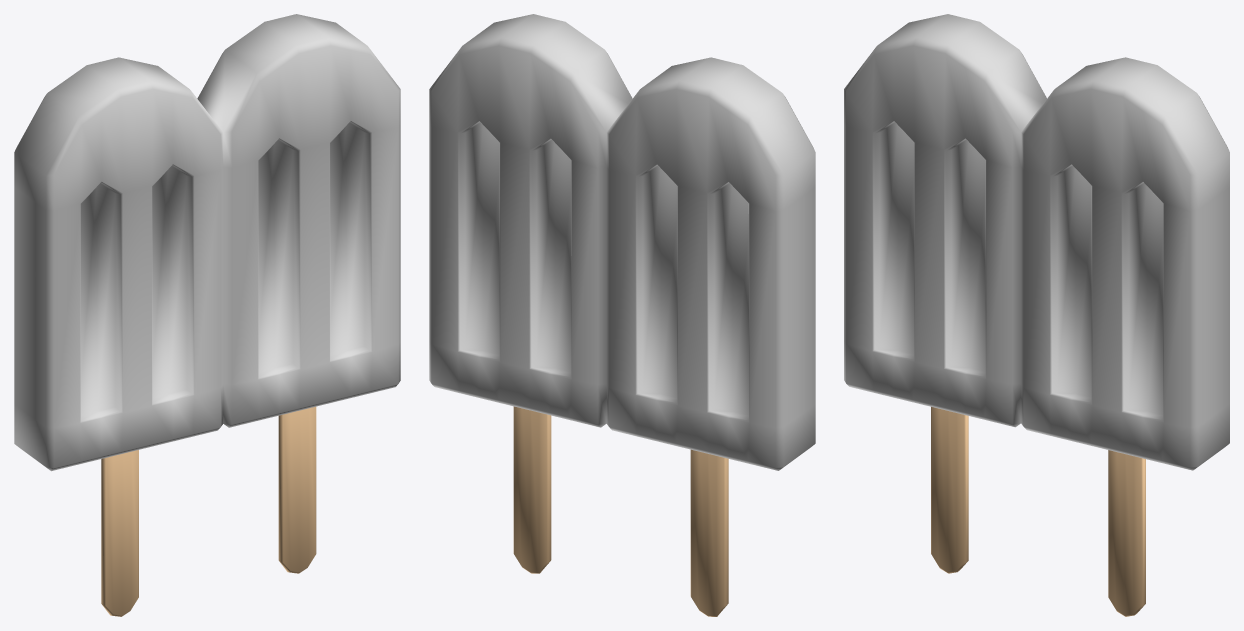
The model's file is double_popscicle.fbx.
3 renders of one model, left to right at view 1: azimuth 30°, elevation 25°; view 2: azimuth 150°, elevation 25°; view 3: azimuth 330°, elevation 25°, orthographic.
Parts seen in each view (by area): view 1: popscicle; view 2: popscicle; view 3: popscicle.
Boxes of the visible parts, x1=… form: popscicle: x1=14, y1=14, x2=400, y2=616; popscicle: x1=429, y1=14, x2=815, y2=616; popscicle: x1=844, y1=14, x2=1229, y2=616.
Bounding box in the file's own units: 378 × 554 × 69.66.
